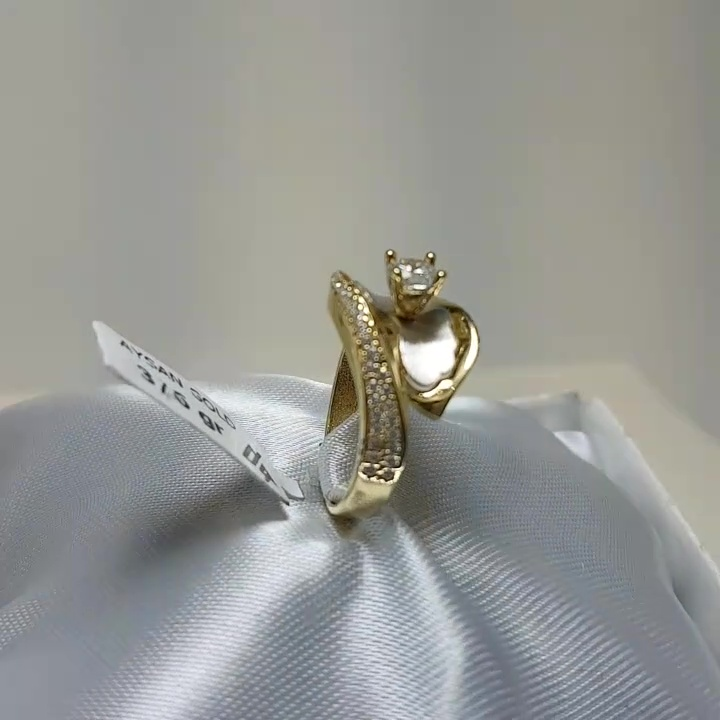Ring 6: (294, 228, 490, 543)
